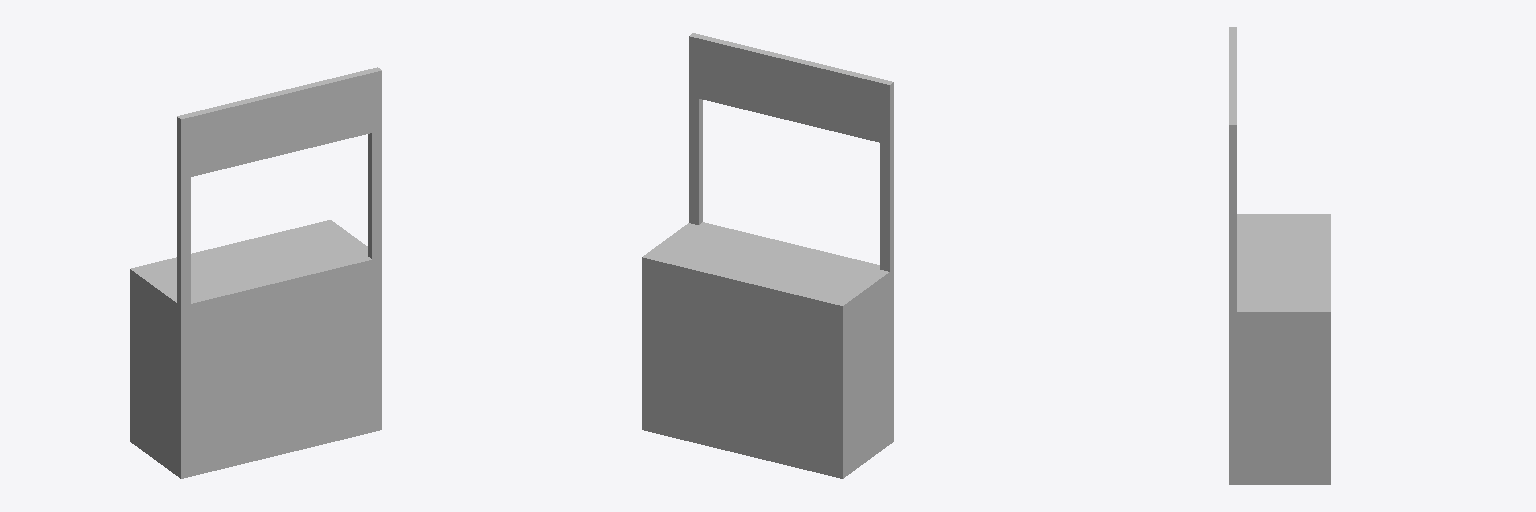
The model's file is Stander.obj.
The picture shows the model from 3 angles: view 1: azimuth 30°, elevation 25°; view 2: azimuth 150°, elevation 25°; view 3: azimuth 270°, elevation 25°; orthographic projection.
Parts seen in each view (by area): view 1: DM2114_EX08_Stand2:pCube140; view 2: DM2114_EX08_Stand2:pCube140; view 3: DM2114_EX08_Stand2:pCube140.
Part boxes in pixels (x1,y1,x2,y2): DM2114_EX08_Stand2:pCube140: (130,67,381,478); DM2114_EX08_Stand2:pCube140: (642,33,893,478); DM2114_EX08_Stand2:pCube140: (1229,27,1330,484).
Size of the model in its own units: 4.44 by 7.59 by 1.96.